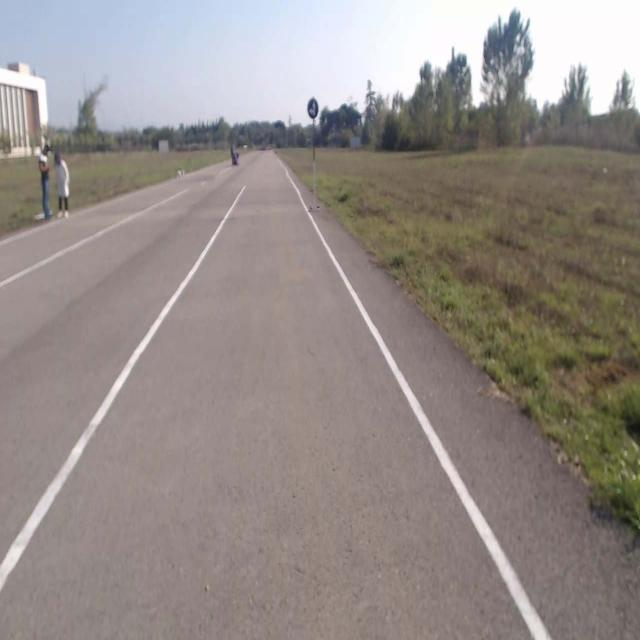ilerisol: (307, 98, 319, 118)
